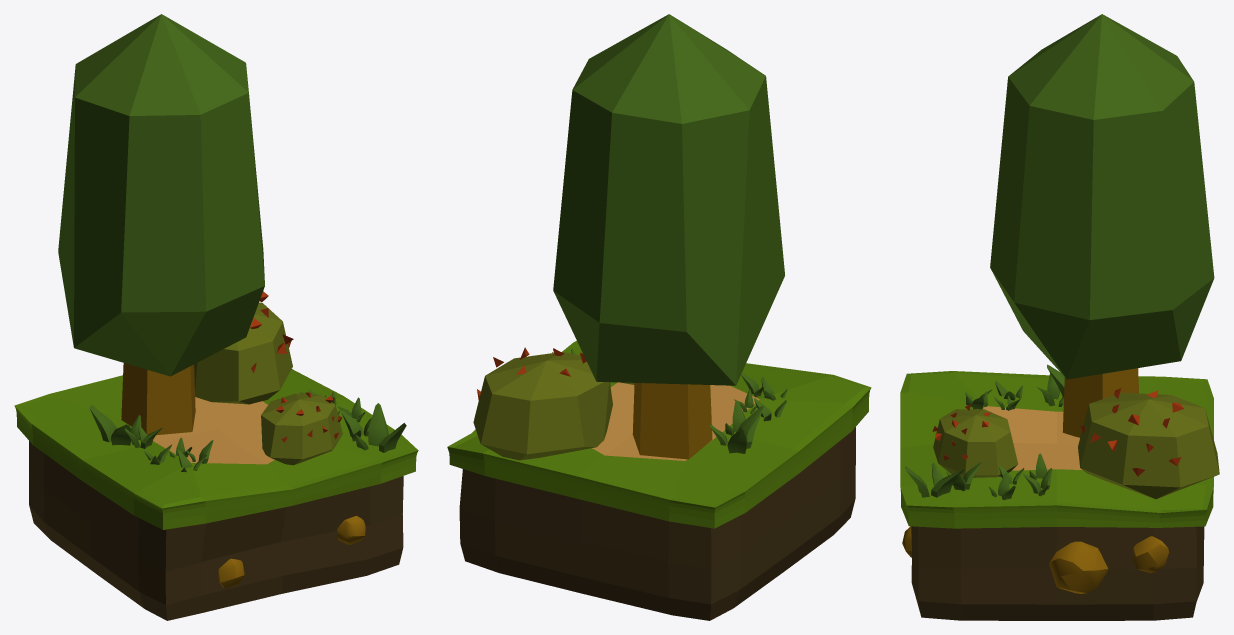
Rendered from AnyTile_SmoothTree.fbx.
3 views of the same model, side by side, from view 1: azimuth 30°, elevation 25°; view 2: azimuth 150°, elevation 25°; view 3: azimuth 270°, elevation 25° (orthographic). The views are drawn at different scales.
Parts seen in each view (by area): view 1: Tree.003, DefaultGreenTile.007, Bush, Bush.001, Grass.006, Rocks.004; view 2: Tree.003, DefaultGreenTile.007, Bush, Grass.006; view 3: Tree.003, DefaultGreenTile.007, Bush, Bush.001, Grass.006, Rocks.004.
Boxes of the visible parts, <box> form: Tree.003: <box>58,14,264,435</box>; DefaultGreenTile.007: <box>14,369,418,620</box>; Bush: <box>194,291,293,404</box>; Bush.001: <box>261,392,342,465</box>; Grass.006: <box>89,389,406,472</box>; Rocks.004: <box>218,516,365,587</box>; Tree.003: <box>553,14,784,459</box>; DefaultGreenTile.007: <box>447,340,871,620</box>; Bush: <box>473,347,612,460</box>; Grass.006: <box>552,348,787,453</box>; Tree.003: <box>990,14,1214,437</box>; DefaultGreenTile.007: <box>900,371,1213,620</box>; Bush: <box>1078,388,1219,499</box>; Bush.001: <box>932,404,1017,477</box>; Grass.006: <box>905,364,1064,500</box>; Rocks.004: <box>902,526,1168,593</box>.
Bounding box in the file's own units: 20.07 × 19.9 × 36.85.
